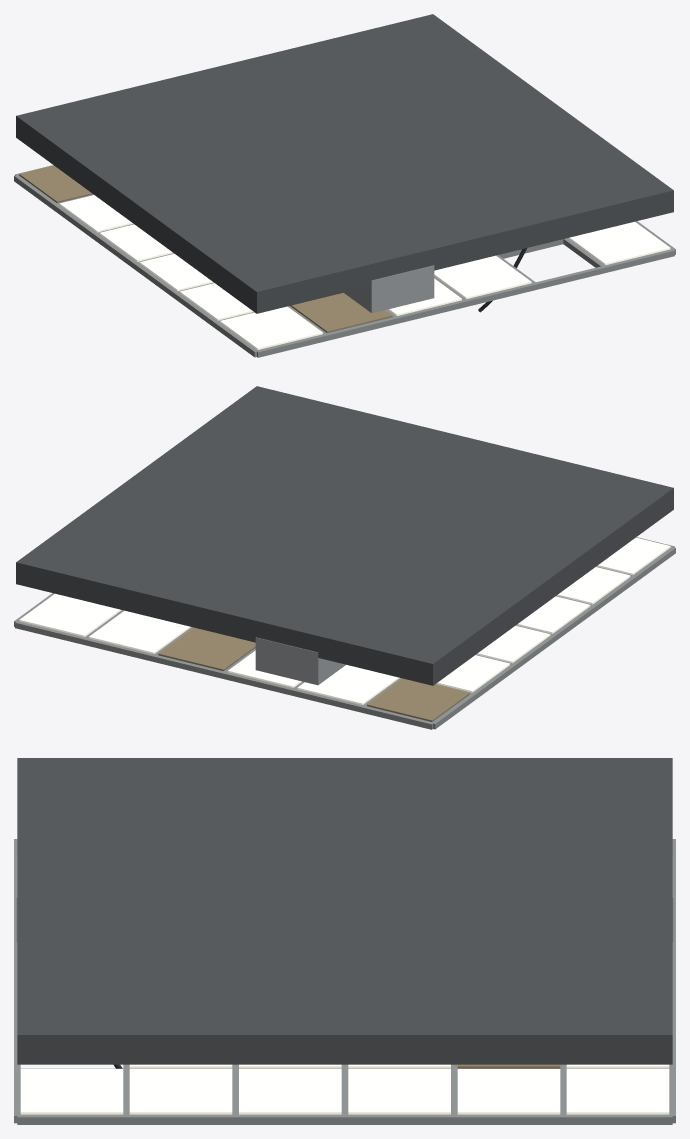
Rendered from ceil_an_gridbroken.glb.
3 views of the same model, one above another, from view 1: azimuth 30°, elevation 25°; view 2: azimuth 150°, elevation 25°; view 3: azimuth 270°, elevation 25° (orthographic). The views are drawn at different scales.
Parts seen in each view (by area): view 1: ceil_an_gridbroken; view 2: ceil_an_gridbroken; view 3: ceil_an_gridbroken.
Part boxes in pixels (<box>): ceil_an_gridbroken: <box>14,14,675,357</box>; ceil_an_gridbroken: <box>14,386,675,729</box>; ceil_an_gridbroken: <box>14,758,675,1124</box>.
Bounding box in the file's own units: 4.04 × 1.11 × 4.04.
